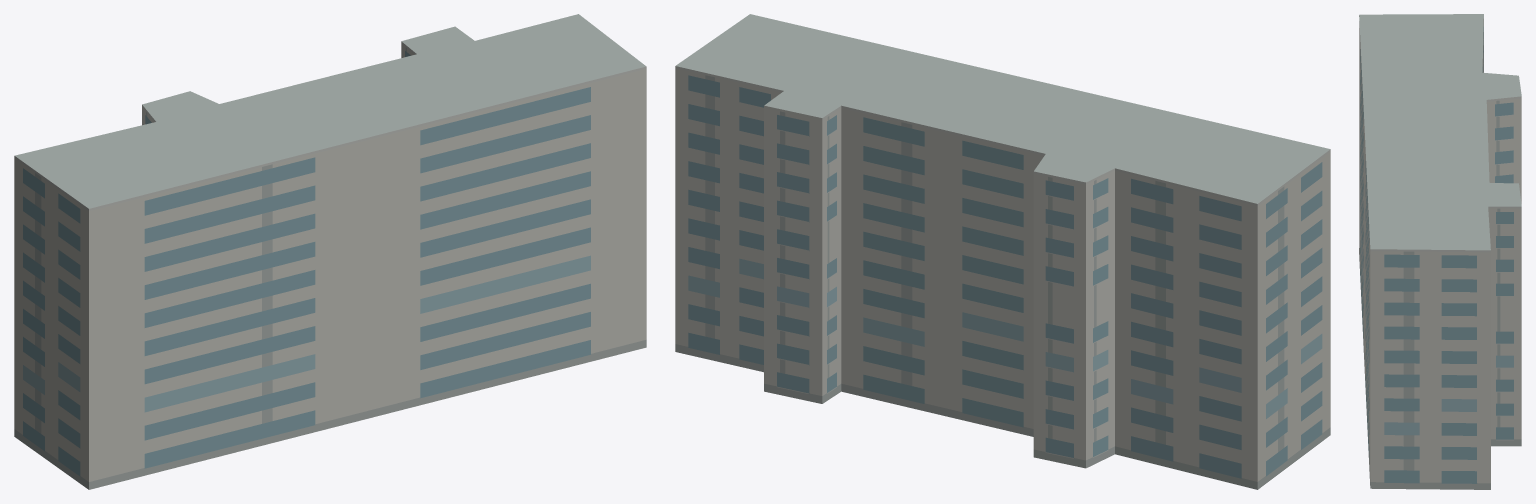
The model's file is residential-57eeccb1-208b-41d5-acee-80785447f565.glb.
3 renders of one model, left to right at view 1: azimuth 30°, elevation 25°; view 2: azimuth 150°, elevation 25°; view 3: azimuth 270°, elevation 25°, orthographic. The views are drawn at different scales.
Parts seen in each view (by area): view 1: residential-57eeccb1-208b-41d5-acee-80785447f565.tmp; view 2: residential-57eeccb1-208b-41d5-acee-80785447f565.tmp; view 3: residential-57eeccb1-208b-41d5-acee-80785447f565.tmp.
Part boxes in pixels (<box>): residential-57eeccb1-208b-41d5-acee-80785447f565.tmp: <box>14,14,646,489</box>; residential-57eeccb1-208b-41d5-acee-80785447f565.tmp: <box>675,14,1330,489</box>; residential-57eeccb1-208b-41d5-acee-80785447f565.tmp: <box>1359,14,1521,489</box>.
Bounding box in the file's own units: 63.5 × 30 × 18.47.
